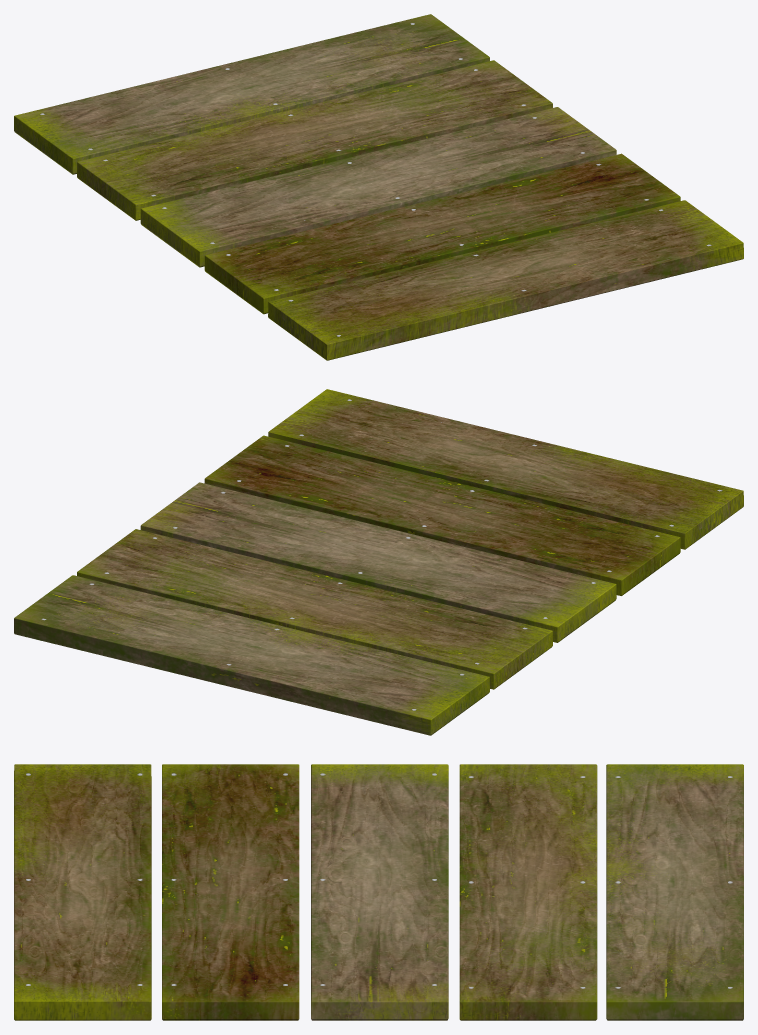
Rendered from PNW Pathway_Straight_B_No Grip.glb.
The picture shows the model from 3 angles, top to bottom: view 1: azimuth 30°, elevation 25°; view 2: azimuth 150°, elevation 25°; view 3: azimuth 270°, elevation 25°; orthographic projection. The views are drawn at different scales.
Visible parts, largest first — view 1: Plank Straight B; view 2: Plank Straight B; view 3: Plank Straight B.
Boxes of the visible parts, x1,y1,x2,y2 form: Plank Straight B: (14, 14, 743, 360); Plank Straight B: (14, 389, 743, 735); Plank Straight B: (14, 764, 743, 1020).
Size of the model in its own units: 1.52 by 0.0577 by 1.97.
Materials: 1 (1 with a texture image).
